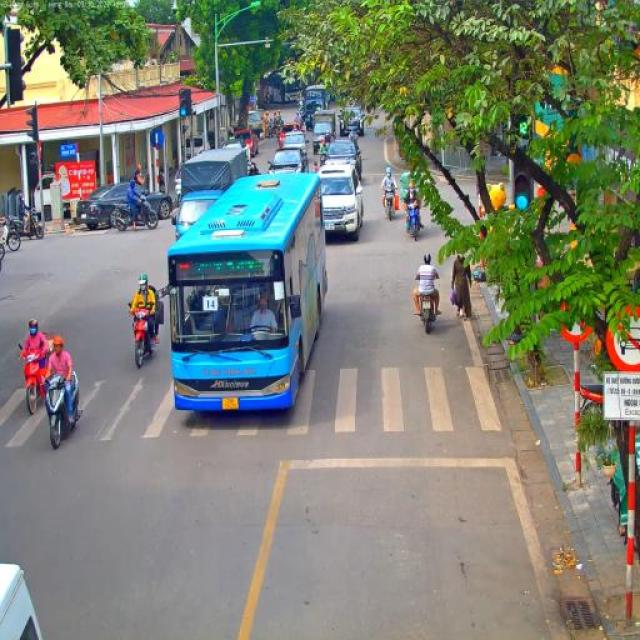bus: (156, 170, 330, 416)
car: (76, 182, 174, 232), (315, 162, 365, 242), (323, 136, 363, 184), (266, 148, 309, 174), (337, 105, 365, 136), (278, 131, 307, 159), (221, 139, 254, 162), (233, 129, 259, 157), (276, 122, 303, 148)
motorcycle: (42, 366, 83, 450), (19, 342, 56, 416), (128, 300, 160, 370), (108, 189, 158, 232), (3, 206, 45, 242), (402, 199, 422, 242), (418, 292, 437, 334), (0, 216, 21, 252), (380, 186, 399, 220), (173, 177, 182, 208), (246, 162, 262, 176), (317, 150, 328, 165)
truck: (171, 148, 249, 242), (311, 108, 337, 156), (302, 88, 327, 132), (246, 110, 264, 138)
